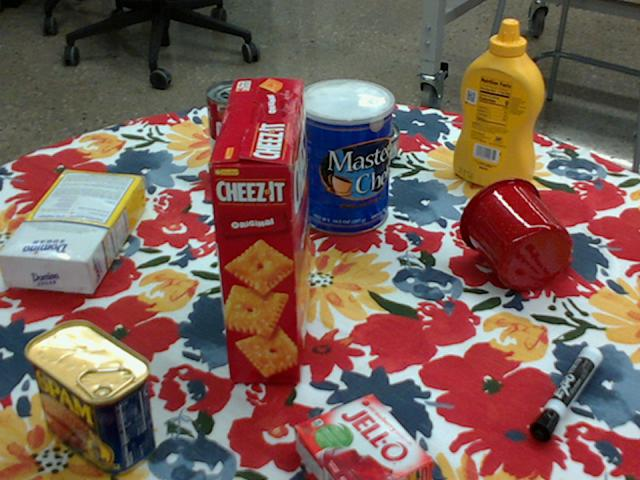cracker_box: (203, 78, 310, 384)
gelatin_box: (294, 393, 436, 479)
large_marker: (532, 344, 603, 439)
master_chef_can: (296, 78, 394, 235)
mug: (459, 177, 574, 290)
mustard_bottle: (452, 20, 543, 191)
potted_meat_can: (21, 319, 154, 474)
sugar_box: (0, 170, 145, 295)
tomato_soup_can: (206, 80, 265, 181)
tuna_fish_can: (333, 116, 402, 168)
